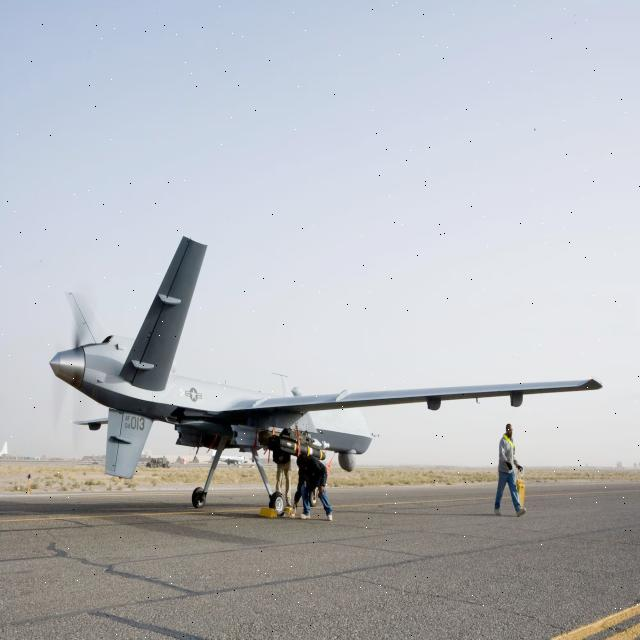MQ9: (40, 206, 628, 550)
